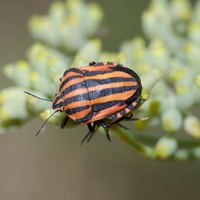insect: (24, 62, 148, 144)
